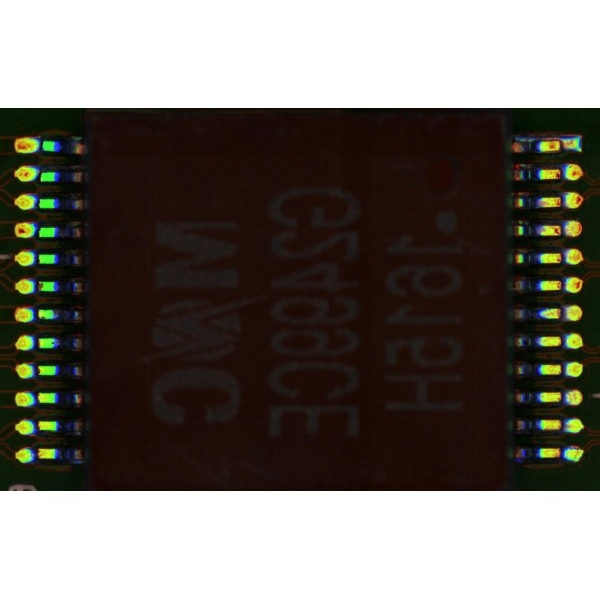Bad_podu: (554, 140, 570, 149)
Bad_qiaojiao: (522, 137, 560, 141)
